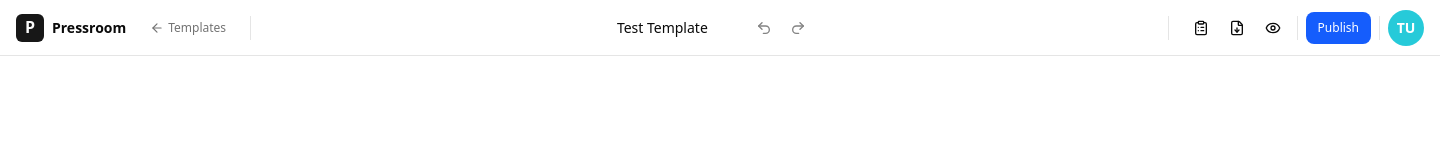
StudioHeader › Template Name Editing › cancels edit on Escape key
The width and height of the screenshot is (1440, 160).
Note: Enter edit mode
Click the button with test id "template-name-display": (672, 28) left=605, top=14, right=740, bottom=42
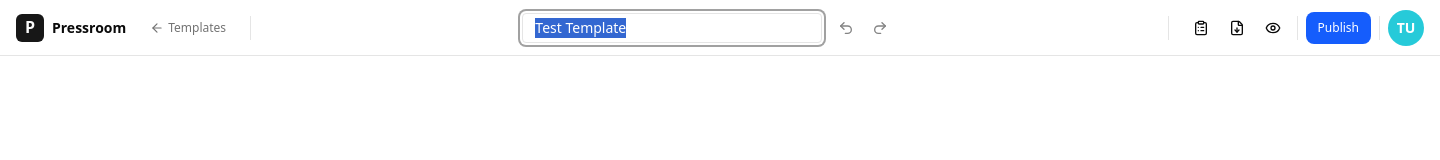
Note: Change value and press Escape
Replace the text in the field with test id "template-name-input" with "New Name": (672, 28) left=522, top=12, right=822, bottom=42
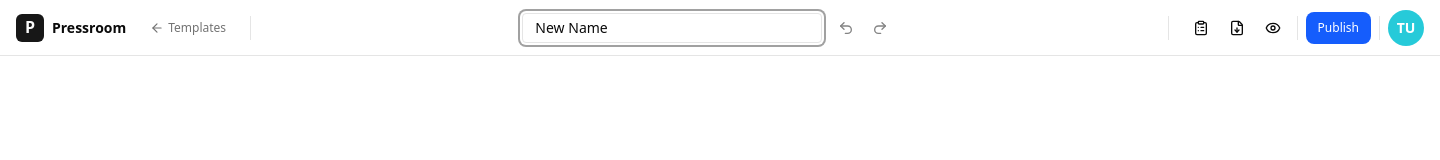
Press Escape in the field with test id "template-name-input", box left=522, top=12, right=822, bottom=42
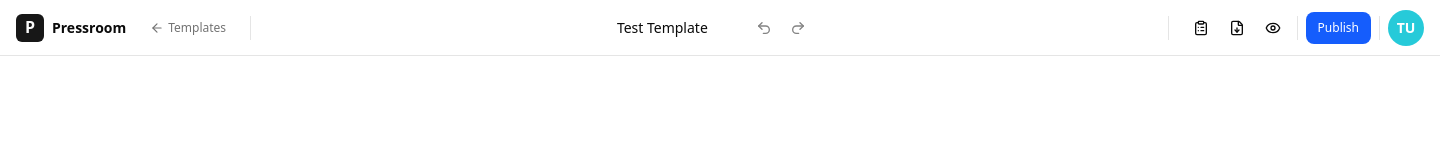
Now the button with test id "template-name-display" is shown, box left=605, top=14, right=740, bottom=42
